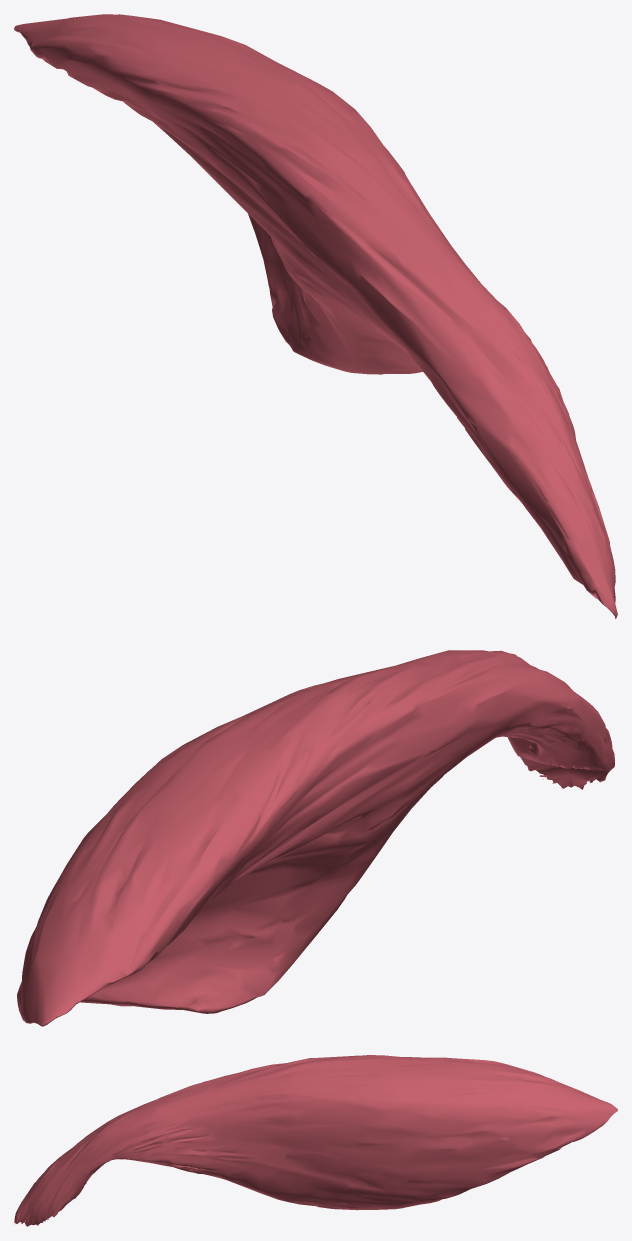
3 views of the same model, one above another, from view 1: azimuth 30°, elevation 25°; view 2: azimuth 150°, elevation 25°; view 3: azimuth 270°, elevation 25° (orthographic). The views are drawn at different scales.
Visible parts, largest first — view 1: 右侧腓肠肌内侧头; view 2: 右侧腓肠肌内侧头; view 3: 右侧腓肠肌内侧头.
Boxes of the visible parts, x1=… form: 右侧腓肠肌内侧头: x1=14, y1=14, x2=617, y2=618; 右侧腓肠肌内侧头: x1=17, y1=650, x2=614, y2=1026; 右侧腓肠肌内侧头: x1=14, y1=1055, x2=617, y2=1226.
Size of the model in its own units: 0.0753 by 0.1267 by 0.4415.
